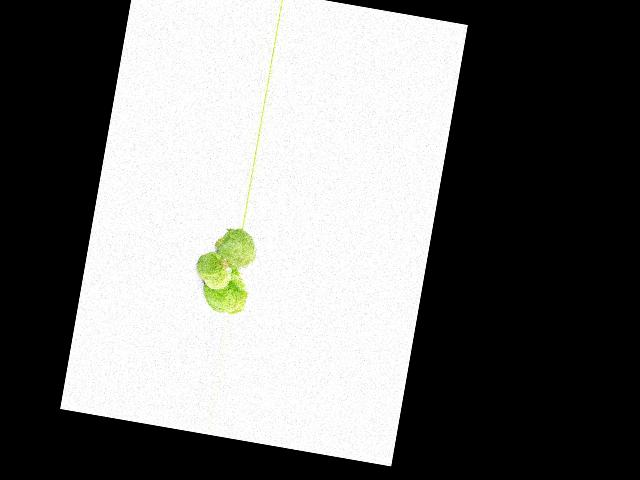lettuce: (203, 271, 248, 314)
